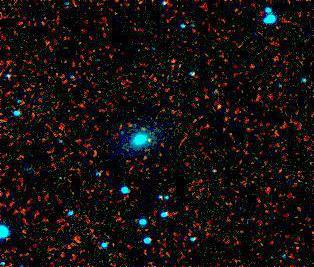star: (140, 126, 170, 156)
